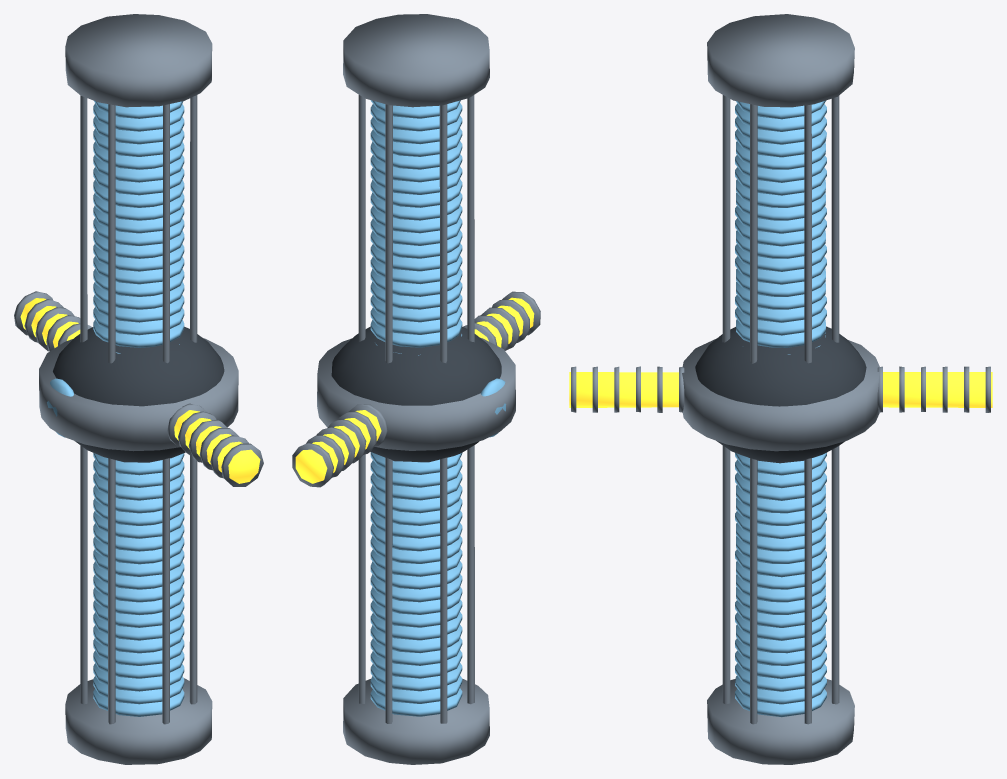
File: WarpCore_LOD0.fbx
3 renders of one model, left to right at view 1: azimuth 30°, elevation 25°; view 2: azimuth 150°, elevation 25°; view 3: azimuth 270°, elevation 25°, orthographic.
Visible parts, largest first — view 1: WarpCore_LOD0; view 2: WarpCore_LOD0; view 3: WarpCore_LOD0.
Boxes of the visible parts, x1,y1,x2,y2 form: WarpCore_LOD0: (14,14,263,764); WarpCore_LOD0: (292,14,540,764); WarpCore_LOD0: (569,14,992,764).
Bounding box in the file's own units: 791 × 3022 × 1683.
